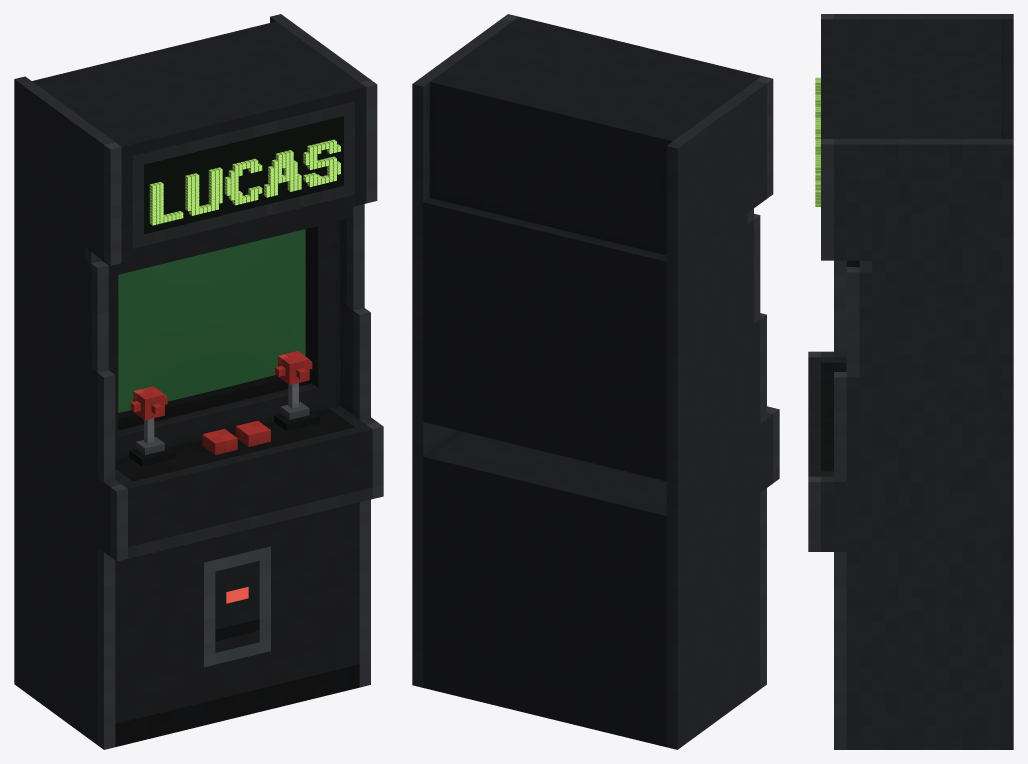
Rendered from arcade.glb.
3 views of the same model, side by side, from view 1: azimuth 30°, elevation 25°; view 2: azimuth 150°, elevation 25°; view 3: azimuth 270°, elevation 25° (orthographic).
Parts seen in each view (by area): view 1: arcade, ecran-crt, marqueeText, joystick (×2); view 2: arcade; view 3: arcade, marqueeText.
Boxes of the visible parts, box(x1,y1,x2,y2) form: arcade: box(14, 14, 383, 749); ecran-crt: box(118, 229, 305, 412); marqueeText: box(149, 139, 340, 225); joystick (×2): box(129, 351, 319, 466); arcade: box(412, 14, 779, 749); arcade: box(808, 14, 1013, 749); marqueeText: box(815, 77, 820, 206).
Size of the model in its own units: 2.4 by 5.2 by 1.6.
